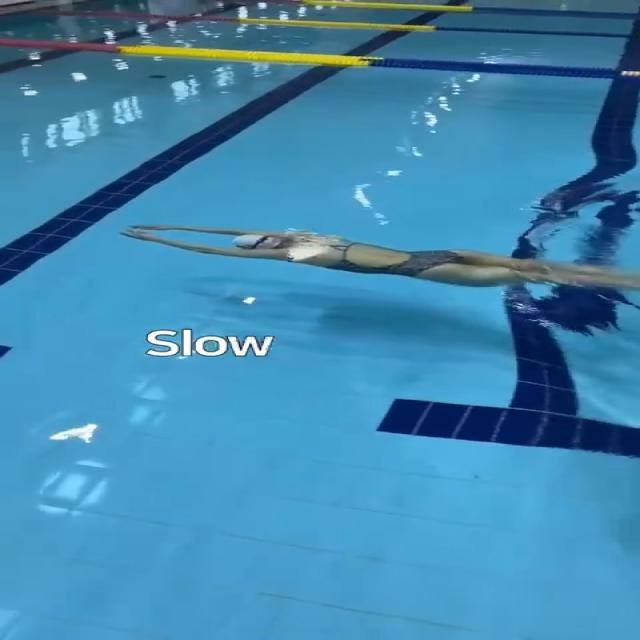Swimming: (119, 221, 637, 294)
